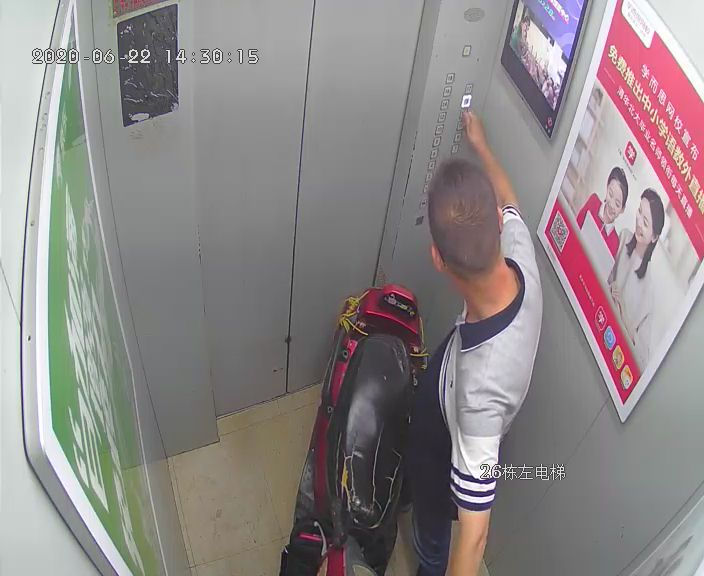Electric-bicycle: (279, 284, 427, 574)
